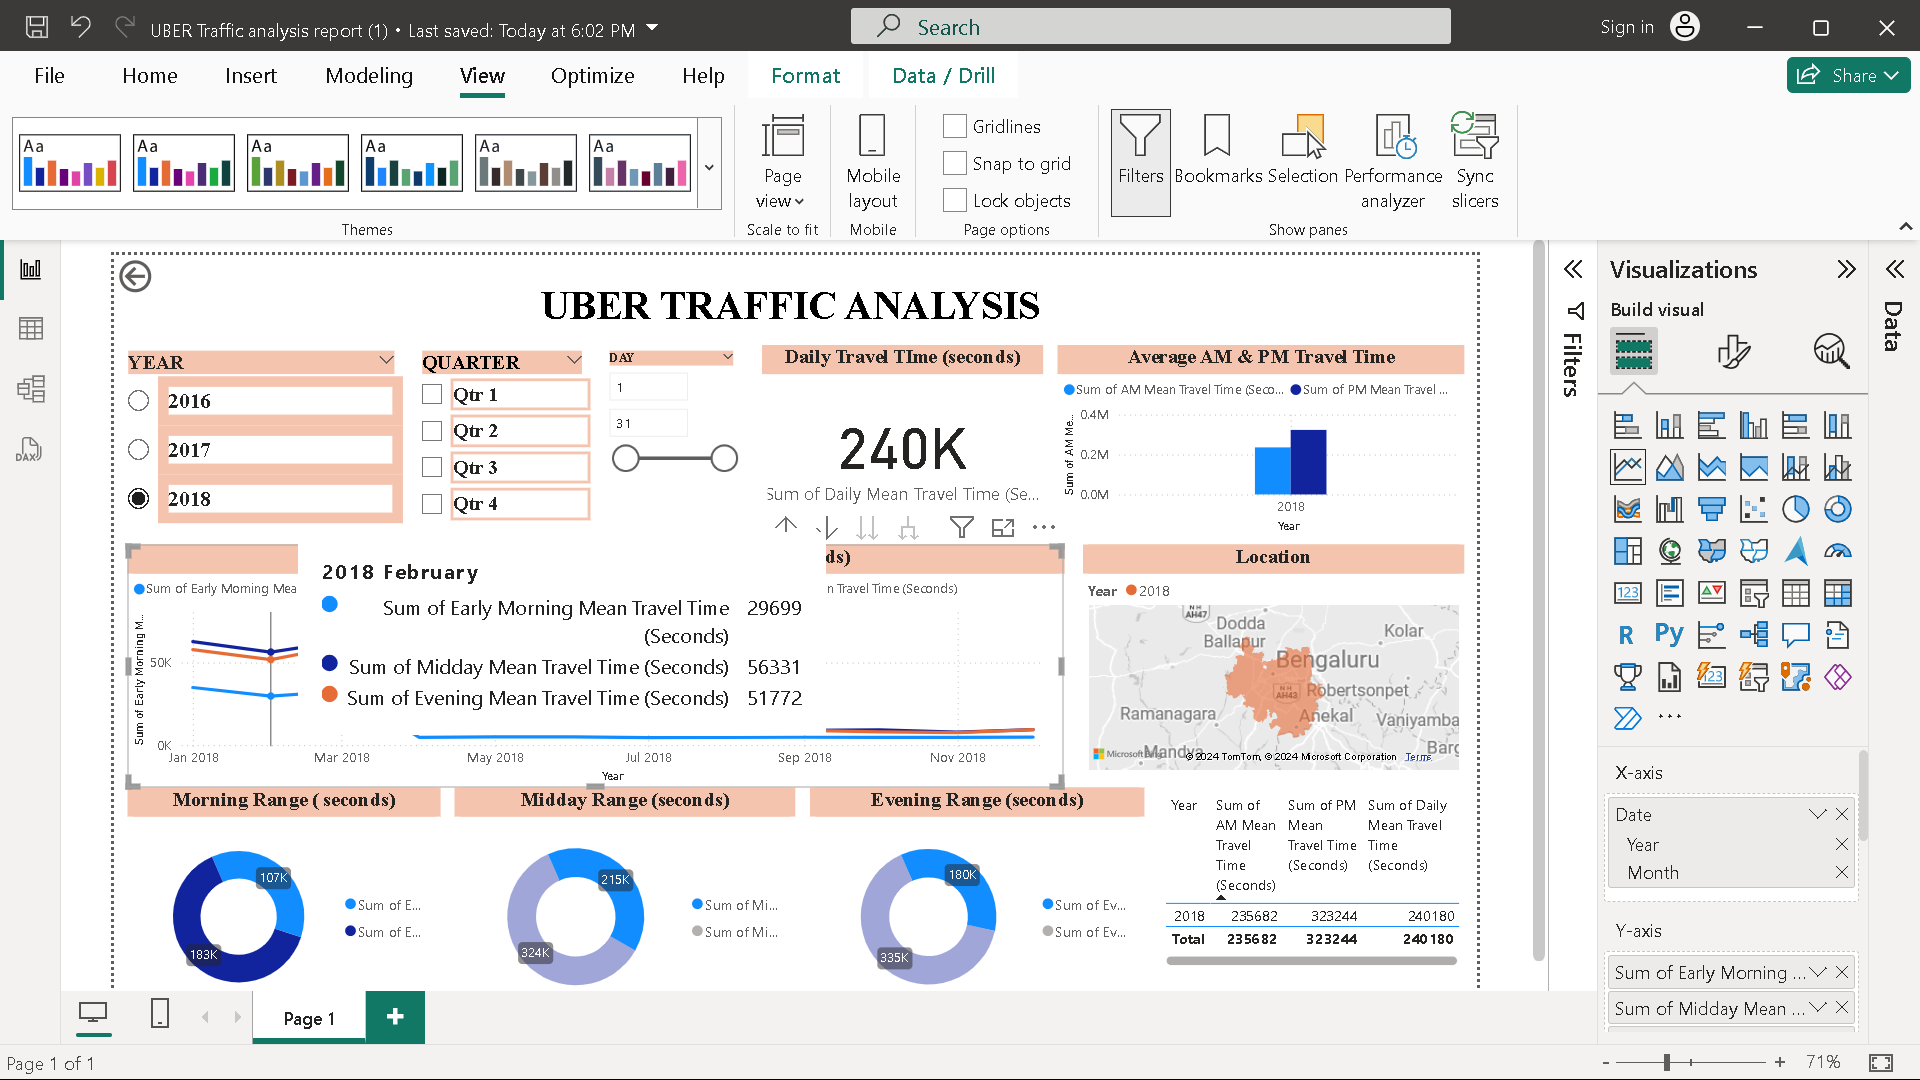

This screenshot's page, from the dashboard's own definition file:
{"tool":"powerbi","page":{"name":"Page 1","canvas":[1280,720],"ordinal":0},"visuals":[{"type":"textbox","box":[0,19.4,1279.8,64.7],"z":0},{"type":"lineClusteredColumnComboChart","title":"Average AM & PM Travel Time","fields":{"Category":["Sheet1.Date.Variation.Date Hierarchy.Year"],"Y":["Sum(Sheet1.AM Mean Travel Time (Seconds))","Sum(Sheet1.PM Mean Travel Time (Seconds))"]},"box":[886,84,382,180],"z":1000},{"type":"actionButton","box":[0,0,100,40],"z":2000},{"type":"slicer","fields":{"Values":["Sheet1.Date.Variation.Date Hierarchy.Year"]},"box":[0,84,276,188],"z":4000},{"type":"lineChart","title":"Average Morning, Midday & Evening Travel Time (seconds)","fields":{"Category":["Sheet1.Date.Variation.Date Hierarchy.Year","Sheet1.Date.Variation.Date Hierarchy.Month"],"Y":["Sum(Sheet1.Early Morning Mean Travel Time (Seconds))","Sum(Sheet1.Midday Mean Travel Time (Seconds))","Sum(Sheet1.Evening Mean Travel Time (Seconds))"]},"box":[12,272,880,228],"z":5000},{"type":"filledMap","title":"Location","fields":{"Category":["Sheet1.Origin Display Name"],"Series":["Sheet1.Date.Variation.Date Hierarchy.Year"]},"box":[910,272,358,216],"z":6000},{"type":"tableEx","fields":{"Values":["Sheet1.Date.Variation.Date Hierarchy.Year","Sum(Sheet1.AM Mean Travel Time (Seconds))","Sum(Sheet1.PM Mean Travel Time (Seconds))","Sum(Sheet1.Daily Mean Travel Time (Seconds))"]},"box":[982,500,286,172],"z":7000},{"type":"donutChart","title":"Morning Range ( seconds)","fields":{"Y":["Sum(Sheet1.Early Morning Range - Lower Bound Travel Time (Seconds))","Sum(Sheet1.Early Morning Range - Upper Bound Travel Time (Seconds))"]},"box":[12,500,294,220],"z":8000},{"type":"donutChart","title":"Midday Range (seconds) ","fields":{"Y":["Sum(Sheet1.Midday Range - Lower Bound Travel Time (Seconds))","Sum(Sheet1.Midday Range - Upper Bound Travel Time (Seconds))"]},"box":[320,500,320,220],"z":9000},{"type":"donutChart","title":"Evening Range (seconds)","fields":{"Y":["Sum(Sheet1.Evening Range - Lower Bound Travel Time (Seconds))","Sum(Sheet1.Evening Range - Upper Bound Travel Time (Seconds))"]},"box":[654,500,314,220],"z":10000},{"type":"textbox","box":[982,692,286,28],"z":11000},{"type":"card","title":"Daily Travel TIme (seconds)","fields":{"Values":["Sum(Sheet1.Daily Mean Travel Time (Seconds))"]},"box":[608,84,264,180],"z":12000},{"type":"slicer","fields":{"Values":["Sheet1.Date.Variation.Date Hierarchy.Quarter"]},"box":[276,84,176,180],"z":12001},{"type":"slicer","fields":{"Values":["Sheet1.Date.Variation.Date Hierarchy.Day"]},"box":[452,84,142,180],"z":12002}]}

Visuals, with their boxes on the page's 1280x720 design canvas (x1, y1, x2, y2). These are canvas units, not pixel positions in the 1920x1080 screenshot, which may show the page scaled, cropped or inside an application window:
textbox: detection(0, 19, 1280, 84)
"Average AM & PM Travel Time" lineClusteredColumnComboChart: detection(886, 84, 1268, 264)
actionButton: detection(0, 0, 100, 40)
slicer - Sheet1.Date.Variation.Date Hierarchy.Year: detection(0, 84, 276, 272)
"Average Morning, Midday & Evening Travel Time (seconds)" lineChart: detection(12, 272, 892, 500)
"Location" filledMap: detection(910, 272, 1268, 488)
tableEx - Sheet1.Date.Variation.Date Hierarchy.Year x Sum(Sheet1.AM Mean Travel Time (Seconds)): detection(982, 500, 1268, 672)
"Morning Range ( seconds)" donutChart: detection(12, 500, 306, 720)
"Midday Range (seconds) " donutChart: detection(320, 500, 640, 720)
"Evening Range (seconds)" donutChart: detection(654, 500, 968, 720)
textbox: detection(982, 692, 1268, 720)
"Daily Travel TIme (seconds)" card: detection(608, 84, 872, 264)
slicer - Sheet1.Date.Variation.Date Hierarchy.Quarter: detection(276, 84, 452, 264)
slicer - Sheet1.Date.Variation.Date Hierarchy.Day: detection(452, 84, 594, 264)
